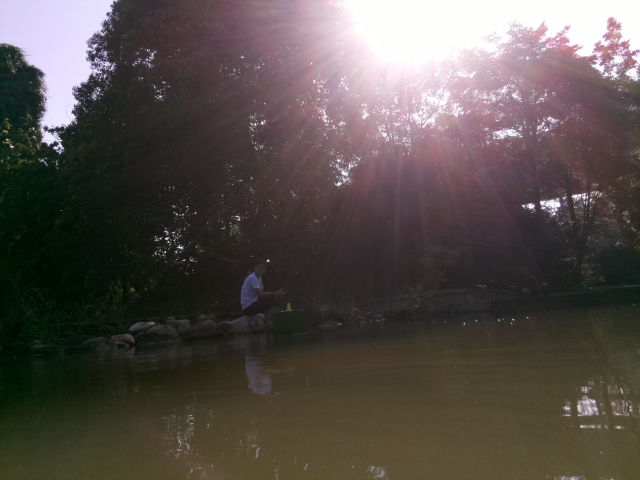checkpoint: (285, 301, 294, 312)
obstacle: (273, 311, 305, 339)
